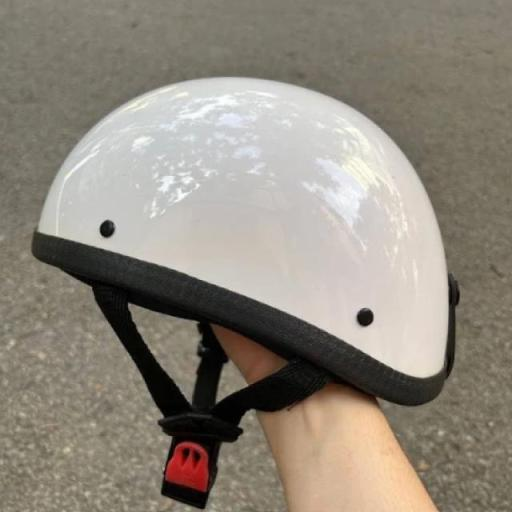with helmet: (30, 75, 462, 409)
